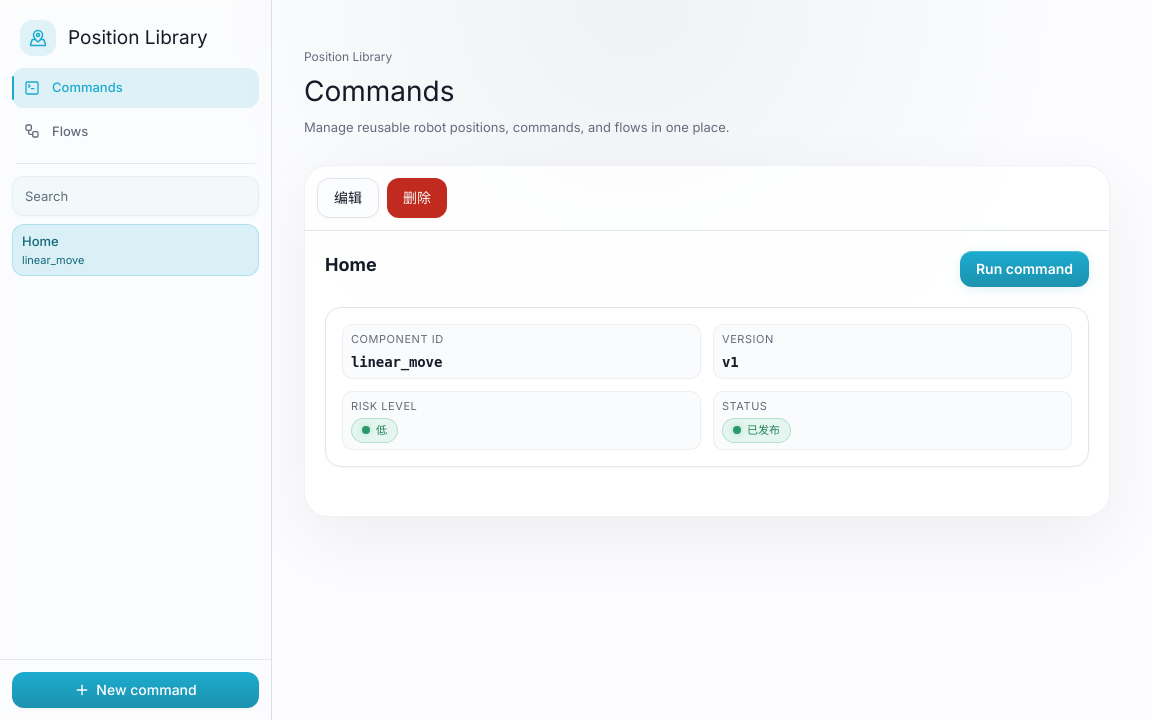
Test case: EngineerWorkbench › keeps the delete dialog open while pending and allows retry after failure
Click the button "删除": (417, 198) top-left (387, 178), bottom-right (447, 218)
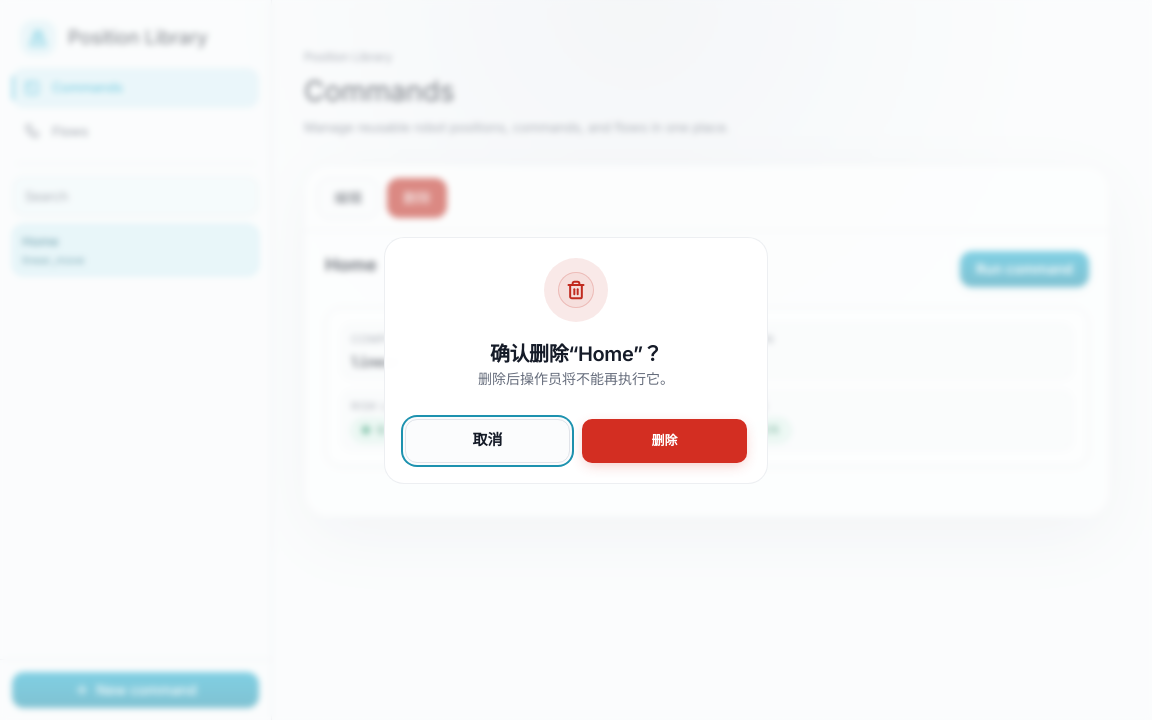
Click the button "删除": (664, 440) top-left (582, 418), bottom-right (747, 462)
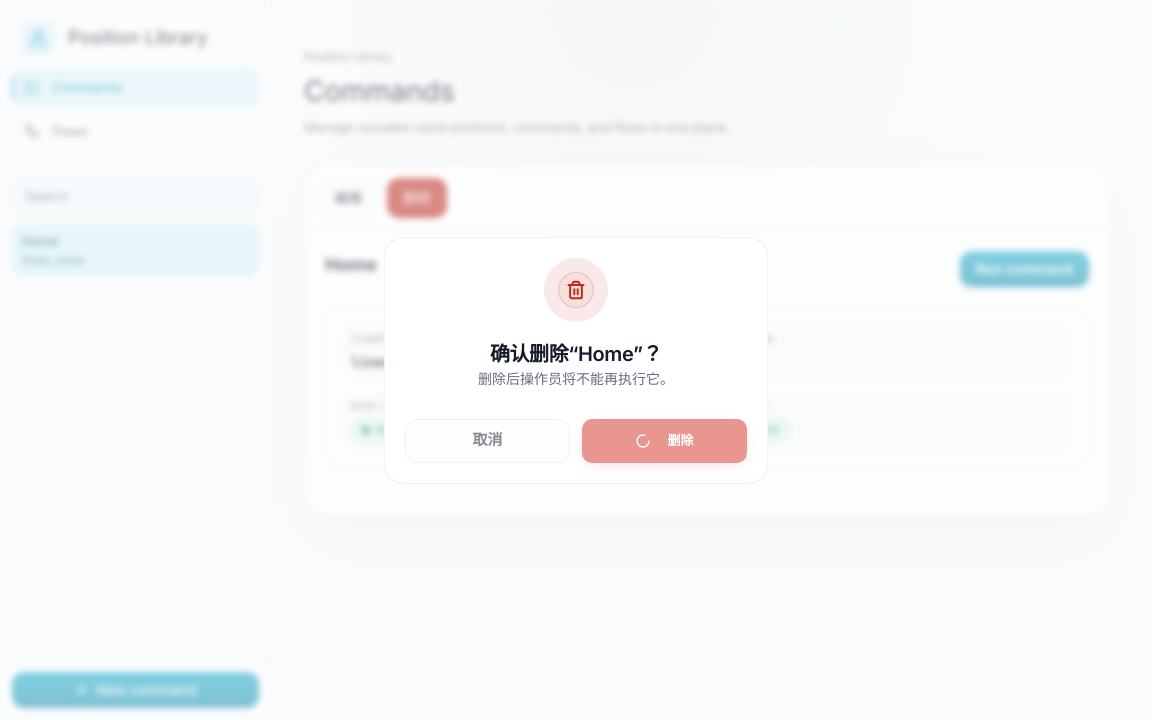
Check: the dialog is shown, box top-left (384, 236), bottom-right (768, 484)
Check: the button "删除" is disabled
Check: the button "取消" is disabled, box top-left (405, 418), bottom-right (570, 462)
Click the button "删除": (664, 440) top-left (582, 418), bottom-right (747, 462)
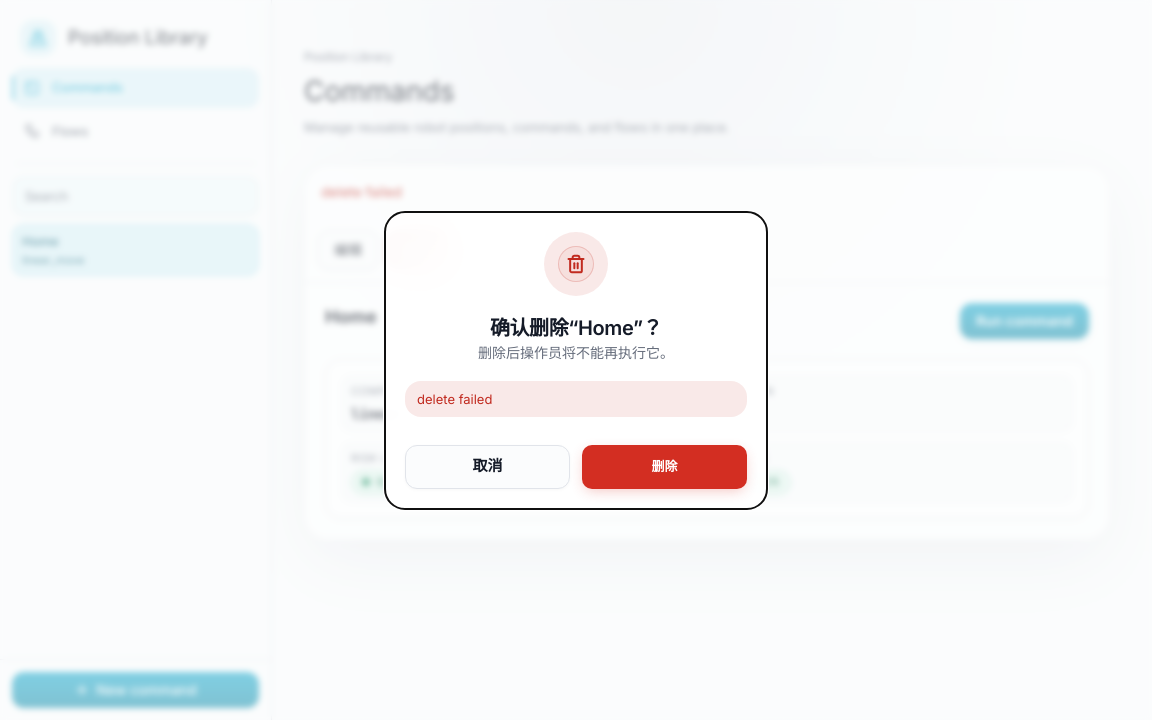
Check: the dialog is shown, box top-left (384, 210), bottom-right (768, 510)
Check: the message reads "delete failed", box top-left (417, 390), bottom-right (492, 406)
Check: the button "删除" is enabled
Click the button "删除": (664, 466) top-left (582, 444), bottom-right (747, 488)
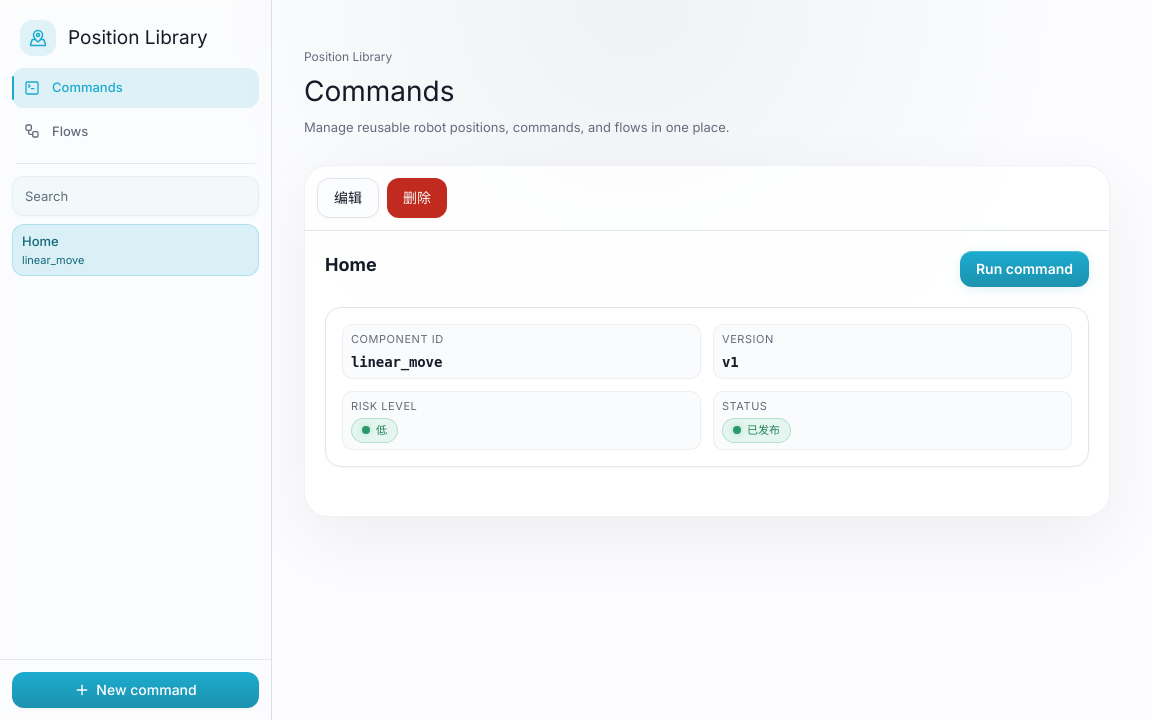
Check: the dialog is gone
